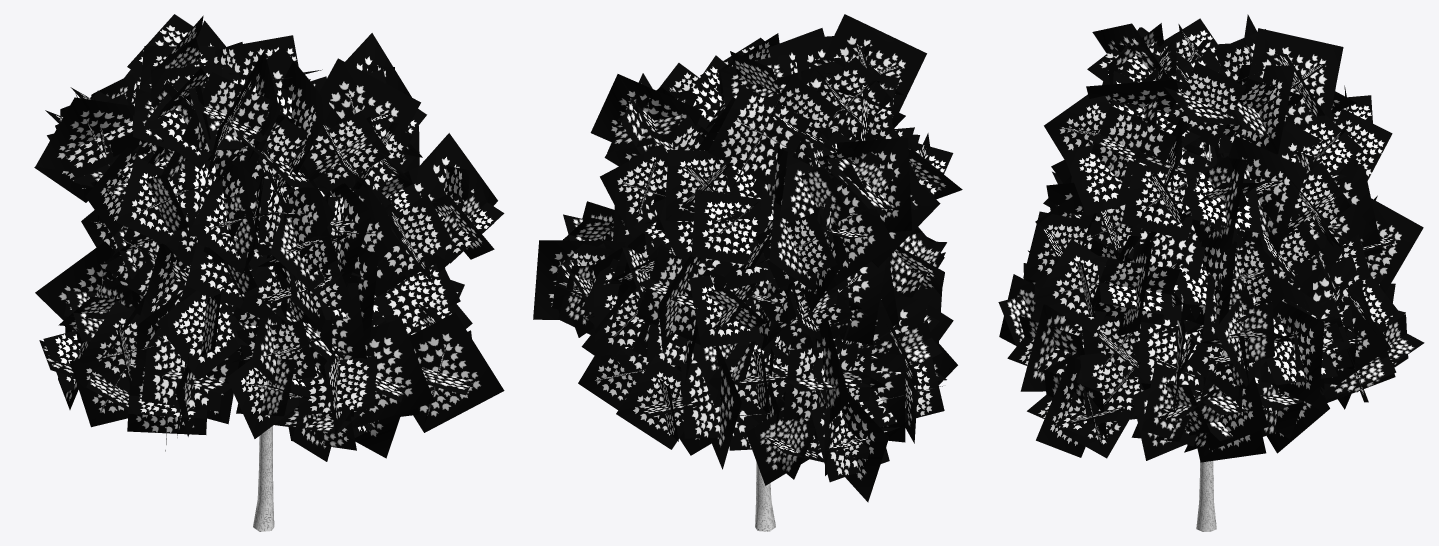
File: RedMaple_LOD0_P4146_B1680_L1056_v01.fbx
3 views of the same model, side by side, from view 1: azimuth 30°, elevation 25°; view 2: azimuth 150°, elevation 25°; view 3: azimuth 270°, elevation 25° (orthographic). The views are drawn at different scales.
Parts seen in each view (by area): view 1: leafclumpatlas_redmaple_1, sugarmaplebarktextureseamless_0; view 2: leafclumpatlas_redmaple_1, sugarmaplebarktextureseamless_0; view 3: leafclumpatlas_redmaple_1, sugarmaplebarktextureseamless_0.
Boxes of the visible parts, x1,y1,x2,y2 form: leafclumpatlas_redmaple_1: [34, 14, 504, 461]; sugarmaplebarktextureseamless_0: [253, 426, 274, 531]; leafclumpatlas_redmaple_1: [533, 14, 962, 502]; sugarmaplebarktextureseamless_0: [755, 462, 775, 531]; leafclumpatlas_redmaple_1: [998, 14, 1424, 462]; sugarmaplebarktextureseamless_0: [1181, 143, 1216, 531].
Bounding box in the file's own units: 1157 × 1442 × 1168.
